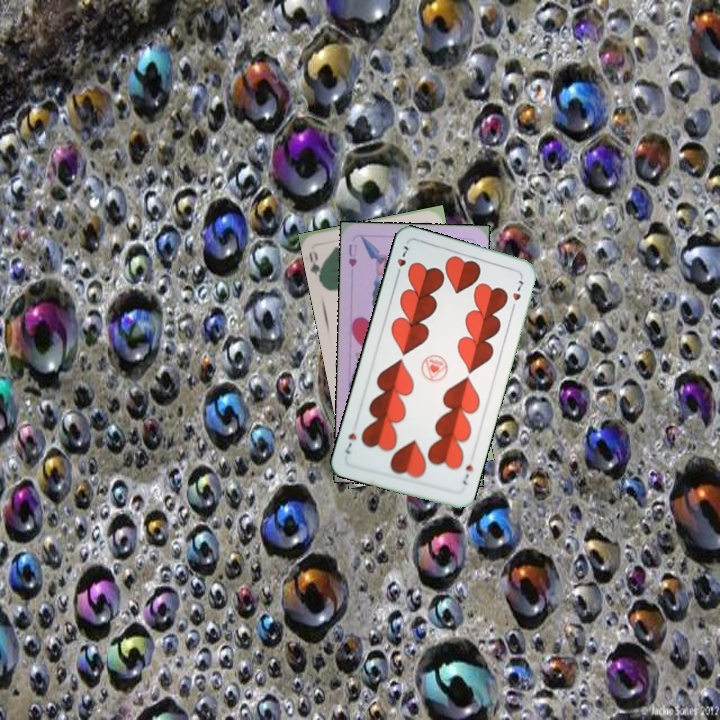GO: (305, 246, 327, 286)
H7: (392, 242, 412, 280), (459, 460, 476, 488)
HU: (344, 240, 360, 270)
